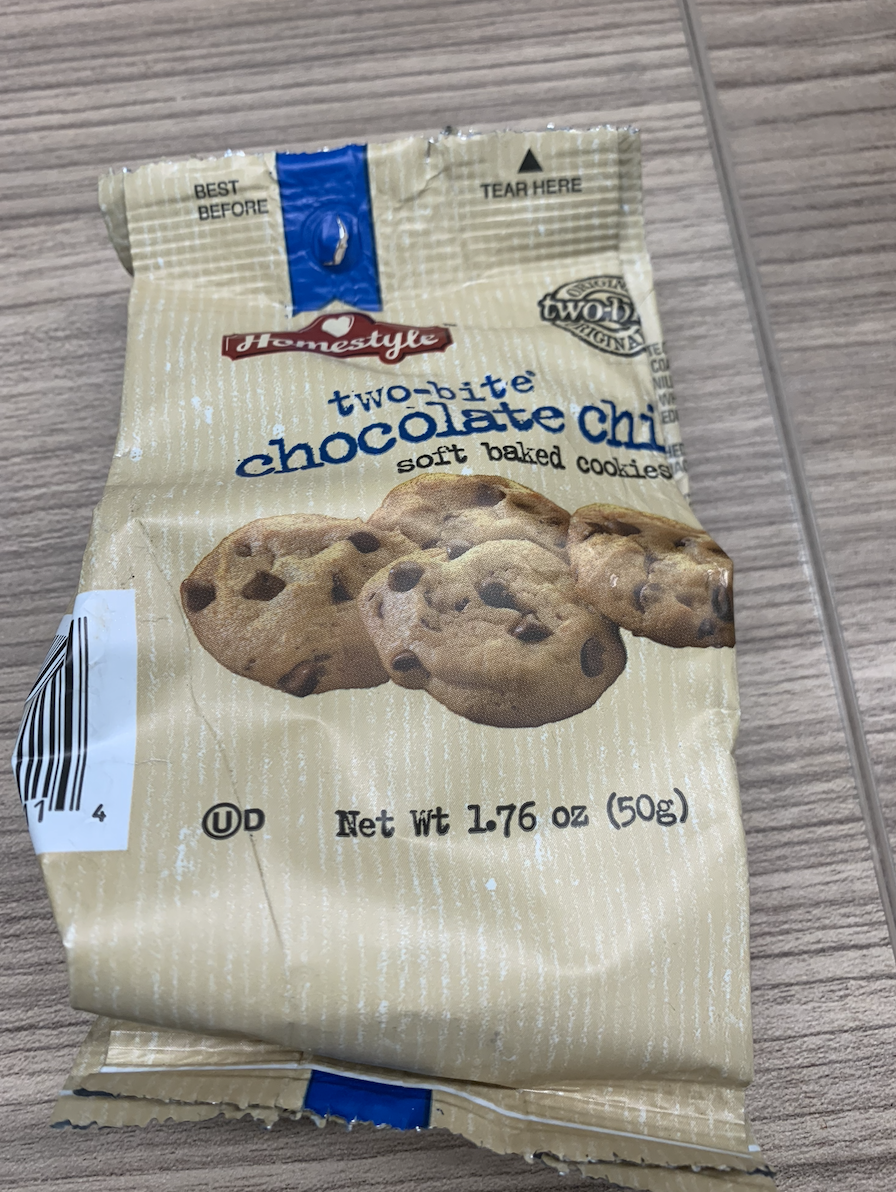cookies_1g-99g: (141, 172, 708, 1059)
